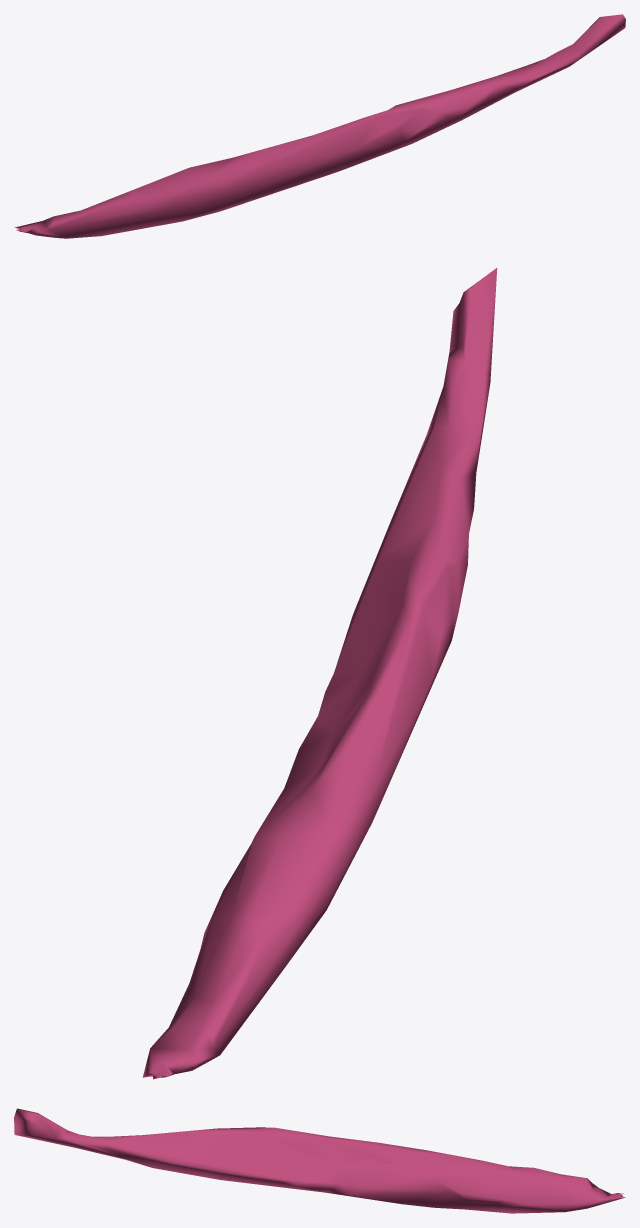
3 views of the same model, one above another, from view 1: azimuth 90°, elevation 25°; view 2: azimuth 150°, elevation 25°; view 3: azimuth 270°, elevation 25° (orthographic). The views are drawn at different scales.
Visible parts, largest first — view 1: 左侧小指短屈肌; view 2: 左侧小指短屈肌; view 3: 左侧小指短屈肌.
Boxes of the visible parts, bbox=[...] form: 左侧小指短屈肌: bbox=[14, 14, 625, 238]; 左侧小指短屈肌: bbox=[142, 268, 497, 1079]; 左侧小指短屈肌: bbox=[14, 1108, 625, 1213].
Size of the model in its own units: 0.0274 by 0.0269 by 0.0912.
